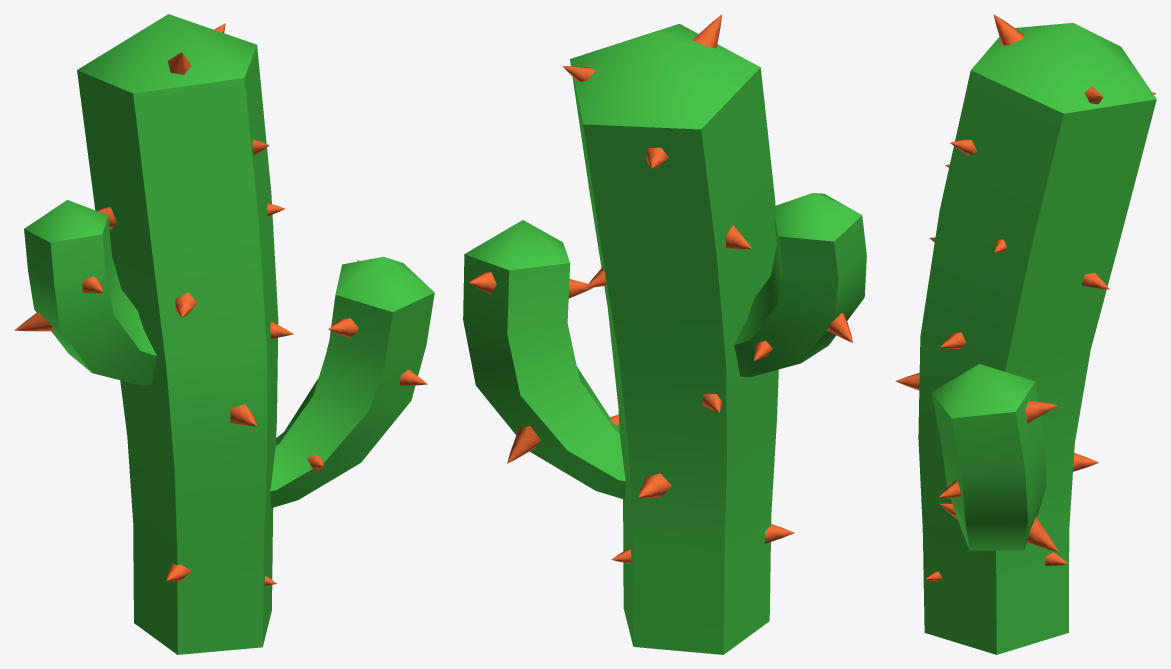
Rendered from cactus.fbx.
3 views of the same model, side by side, from view 1: azimuth 30°, elevation 25°; view 2: azimuth 150°, elevation 25°; view 3: azimuth 270°, elevation 25° (orthographic). The views are drawn at different scales.
Parts seen in each view (by area): view 1: pCylinder1, pCylinder2, pCylinder3; view 2: pCylinder1, pCylinder2, pCylinder3, pCone17, pCone10; view 3: pCylinder1, pCylinder2, pCone17, pCone22, pCone13.
Boxes of the visible parts, box(x1,y1,x2,y2) form: pCylinder1: box(77, 14, 278, 654); pCylinder2: box(270, 256, 434, 508); pCylinder3: box(24, 200, 156, 385); pCylinder1: box(570, 24, 778, 654); pCylinder2: box(463, 220, 625, 499); pCylinder3: box(734, 193, 866, 377); pCone17: box(507, 426, 540, 463); pCone10: box(638, 473, 671, 497); pCylinder1: box(918, 23, 1156, 654); pCylinder2: box(931, 364, 1046, 550); pCone17: box(1026, 517, 1058, 552); pCone22: box(993, 14, 1023, 45); pCone13: box(1025, 400, 1057, 423).
Bounding box in the file's own units: 5.89 × 8.72 × 3.45.
